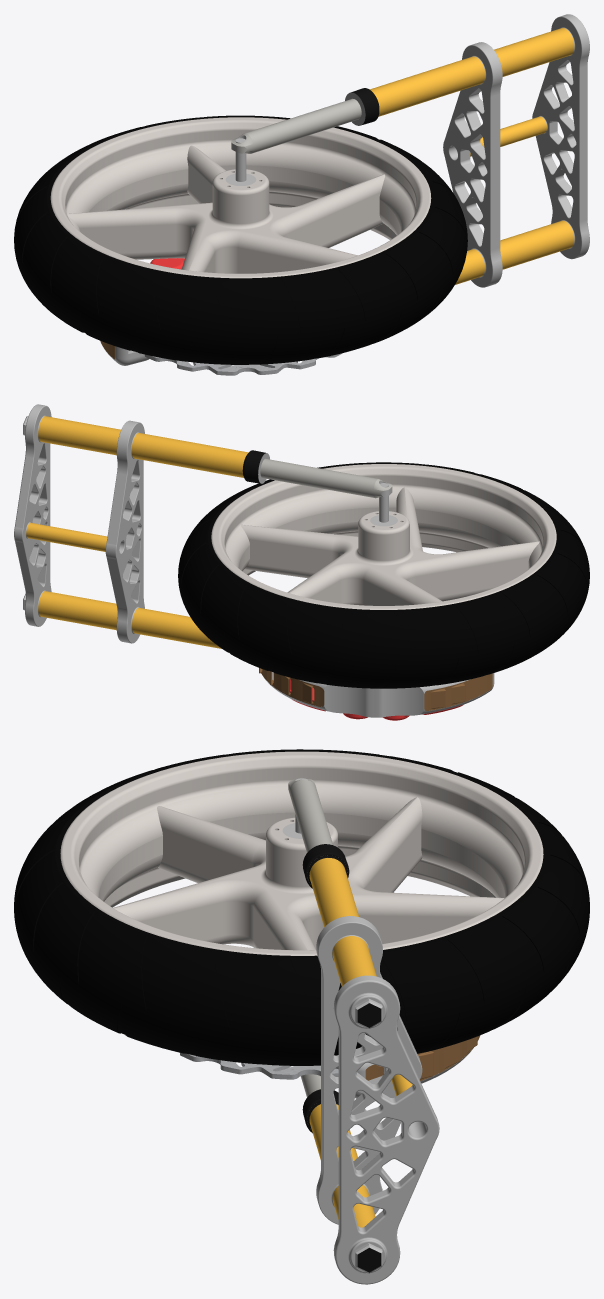
File: Creative Experience00009514.glb
The picture shows the model from 3 angles, top to bottom: view 1: azimuth 30°, elevation 25°; view 2: azimuth 150°, elevation 25°; view 3: azimuth 270°, elevation 25°; orthographic projection. The views are drawn at different scales.
Visible parts, largest first — view 1: b16eb711-9fbb-48b4-ab16-43f4fb70cfa9, b7bf52e4-31eb-46f8-83b3-4fa2be87cc86, 1cfc7af0-6645-4bc4-a6e3-c9aa1f89e515, 4af0d29b-e8c6-4646-ad01-de4f103a1802; view 2: b16eb711-9fbb-48b4-ab16-43f4fb70cfa9, b7bf52e4-31eb-46f8-83b3-4fa2be87cc86, 963f43f7-24e5-4c7f-baff-f4ebe208dbda, aef81a4e-dc3b-49ed-ad19-bb0639d286f4, e3daa524-25d9-44f6-a764-c585fe3aae0e, 4af0d29b-e8c6-4646-ad01-de4f103a1802, 2ed26051-3b06-47f9-a5f0-0446b45fafe9; view 3: b16eb711-9fbb-48b4-ab16-43f4fb70cfa9, b7bf52e4-31eb-46f8-83b3-4fa2be87cc86, e3daa524-25d9-44f6-a764-c585fe3aae0e, 1cfc7af0-6645-4bc4-a6e3-c9aa1f89e515.
Part boxes in pixels (x1,y1,x2,y2): b16eb711-9fbb-48b4-ab16-43f4fb70cfa9: [14, 115, 467, 364]; b7bf52e4-31eb-46f8-83b3-4fa2be87cc86: [231, 14, 589, 287]; 1cfc7af0-6645-4bc4-a6e3-c9aa1f89e515: [144, 353, 342, 375]; 4af0d29b-e8c6-4646-ad01-de4f103a1802: [225, 138, 256, 185]; b16eb711-9fbb-48b4-ab16-43f4fb70cfa9: [178, 462, 589, 688]; b7bf52e4-31eb-46f8-83b3-4fa2be87cc86: [14, 404, 392, 648]; 963f43f7-24e5-4c7f-baff-f4ebe208dbda: [263, 672, 494, 717]; aef81a4e-dc3b-49ed-ad19-bb0639d286f4: [424, 673, 492, 711]; e3daa524-25d9-44f6-a764-c585fe3aae0e: [259, 668, 324, 706]; 4af0d29b-e8c6-4646-ad01-de4f103a1802: [370, 483, 397, 526]; 2ed26051-3b06-47f9-a5f0-0446b45fafe9: [289, 679, 463, 720]; b16eb711-9fbb-48b4-ab16-43f4fb70cfa9: [14, 749, 589, 1065]; b7bf52e4-31eb-46f8-83b3-4fa2be87cc86: [288, 779, 439, 1284]; e3daa524-25d9-44f6-a764-c585fe3aae0e: [365, 1035, 480, 1080]; 1cfc7af0-6645-4bc4-a6e3-c9aa1f89e515: [180, 947, 338, 1079].
Size of the model in its own units: 0.7853 by 0.3181 by 0.5459.
Materials: 14 (2 with a texture image).
